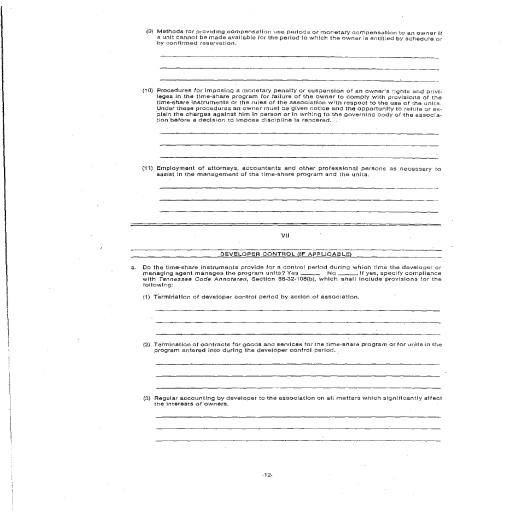check_box: (288, 269, 358, 276)
free_text: (157, 85, 448, 128), (156, 26, 445, 50), (154, 391, 444, 410), (157, 162, 444, 180), (154, 340, 447, 356), (153, 290, 364, 303)
